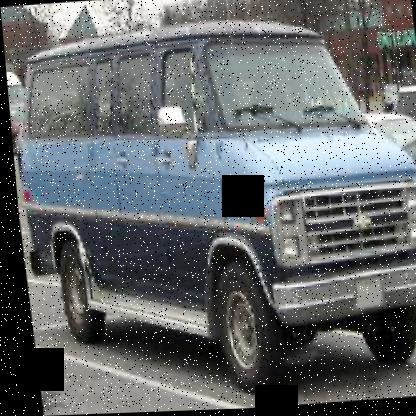not_emergency: (1, 13, 415, 393)
